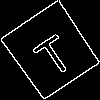T: (26, 25, 78, 81)
